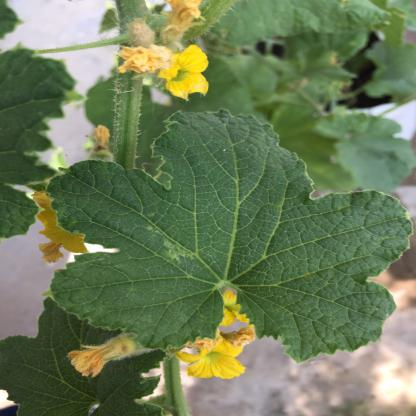Normal: (61, 118, 377, 341)
